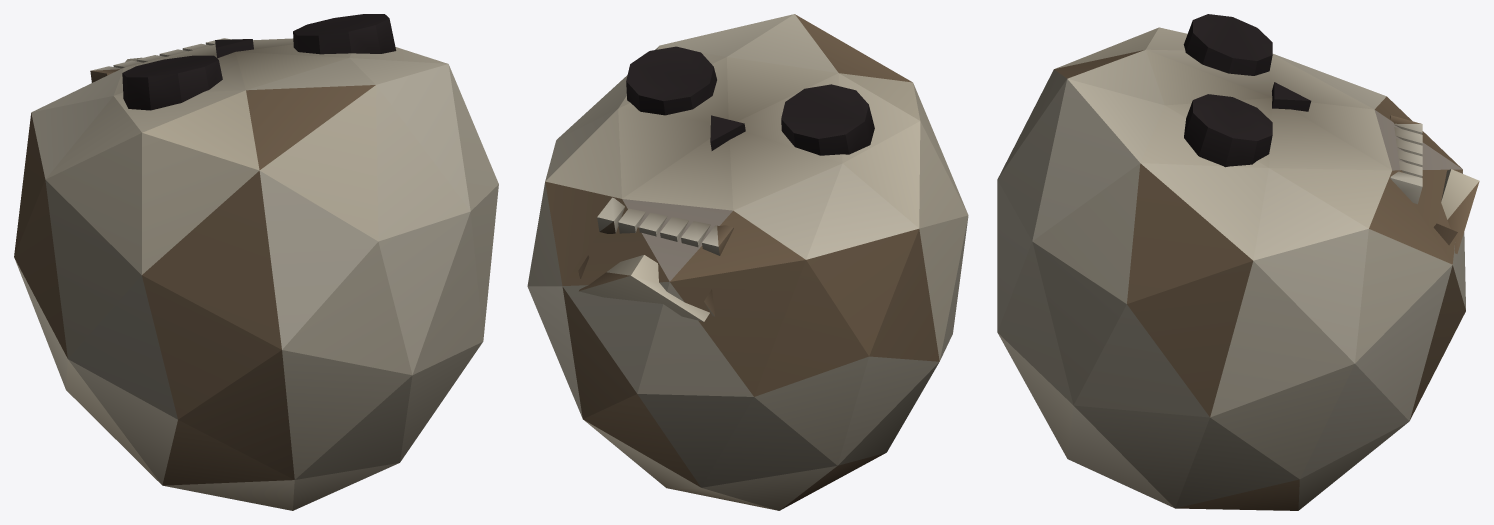
Rendered from abyss_skull.glb.
The picture shows the model from 3 angles, left to right: view 1: azimuth 30°, elevation 25°; view 2: azimuth 150°, elevation 25°; view 3: azimuth 270°, elevation 25°; orthographic projection. The views are drawn at different scales.
Visible parts, largest first — view 1: ca_abyss_skull; view 2: ca_abyss_skull; view 3: ca_abyss_skull.
Boxes of the visible parts, left/top/right/bottom form: ca_abyss_skull: left=14, top=14, right=498, bottom=510; ca_abyss_skull: left=527, top=14, right=968, bottom=510; ca_abyss_skull: left=997, top=14, right=1479, bottom=510.
Bounding box in the file's own units: 0.8442 × 0.9157 × 0.9176.
Materials: 1 (1 with a texture image).
